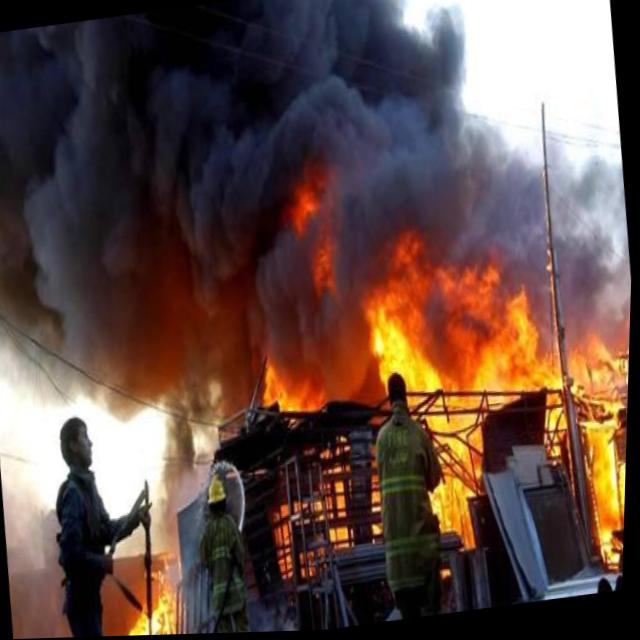fire: (348, 196, 635, 588), (283, 173, 350, 310), (122, 573, 182, 637), (260, 356, 296, 420), (284, 376, 334, 418)
